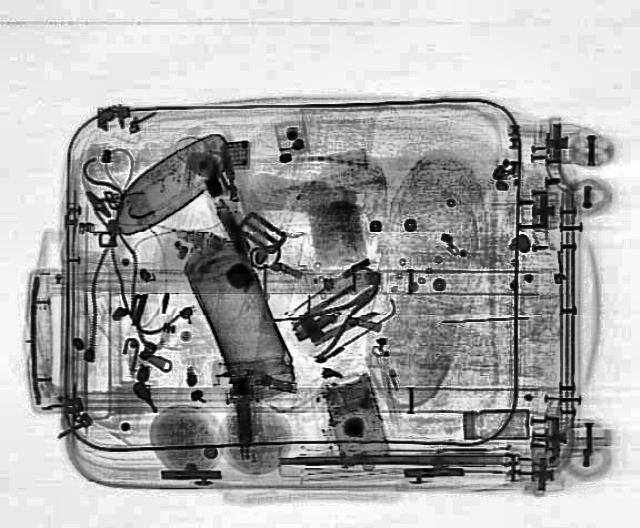Pliers: (280, 272, 394, 358)
